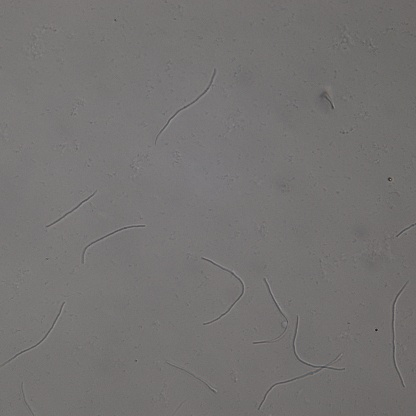Sensitive: (258, 317, 345, 408), (153, 69, 217, 146), (1, 301, 65, 370), (200, 256, 245, 328), (80, 223, 146, 264), (253, 278, 289, 347), (389, 279, 409, 387), (45, 190, 97, 228), (168, 362, 218, 394)
